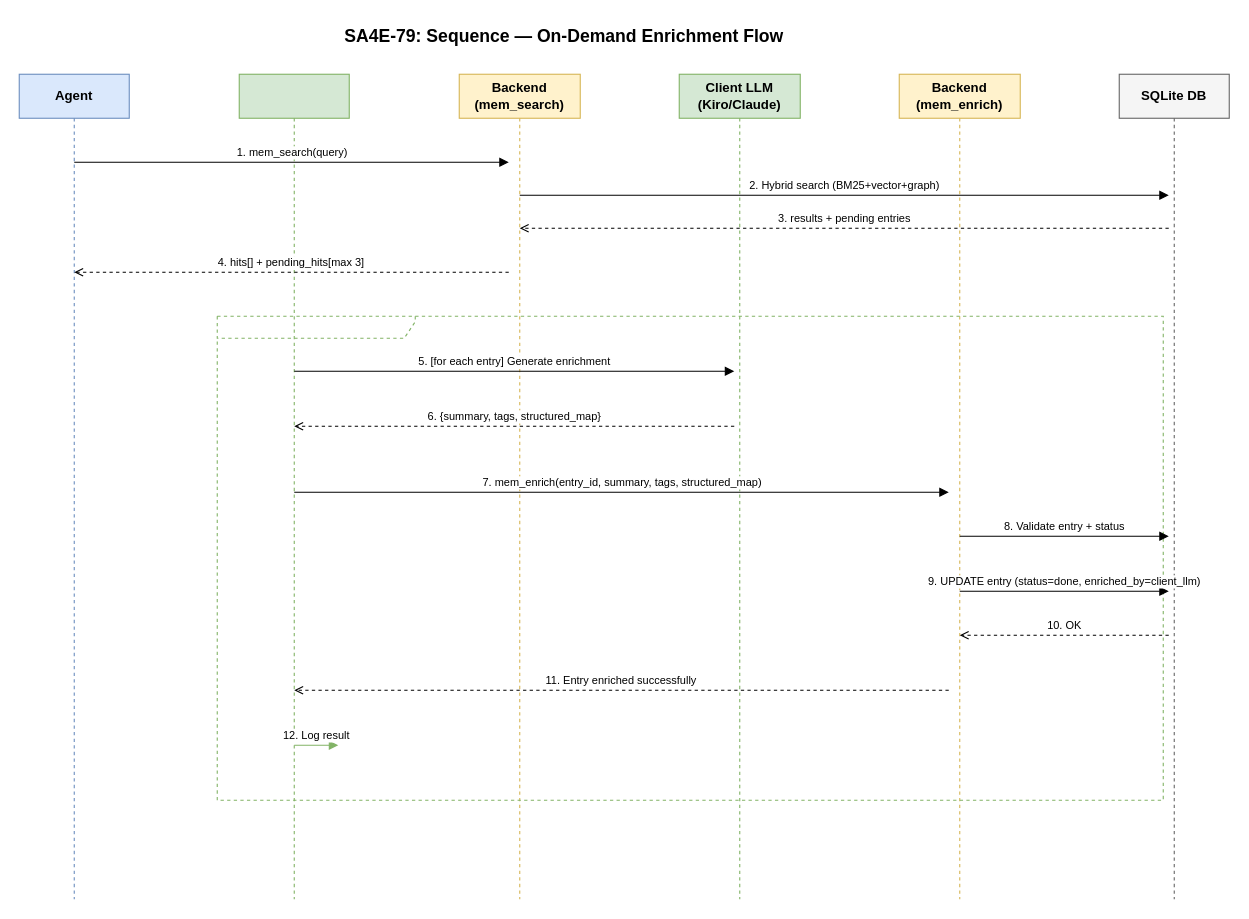
The diagram is 1249 pixels wide and 919 high, and some of its shapes have lost their labels. The box of each missing label's shape, as (x1, y1, x2, y2) in pixels:
async (non-blocking enrichment): (216, 315, 1163, 800)
Extension: (238, 73, 349, 899)
